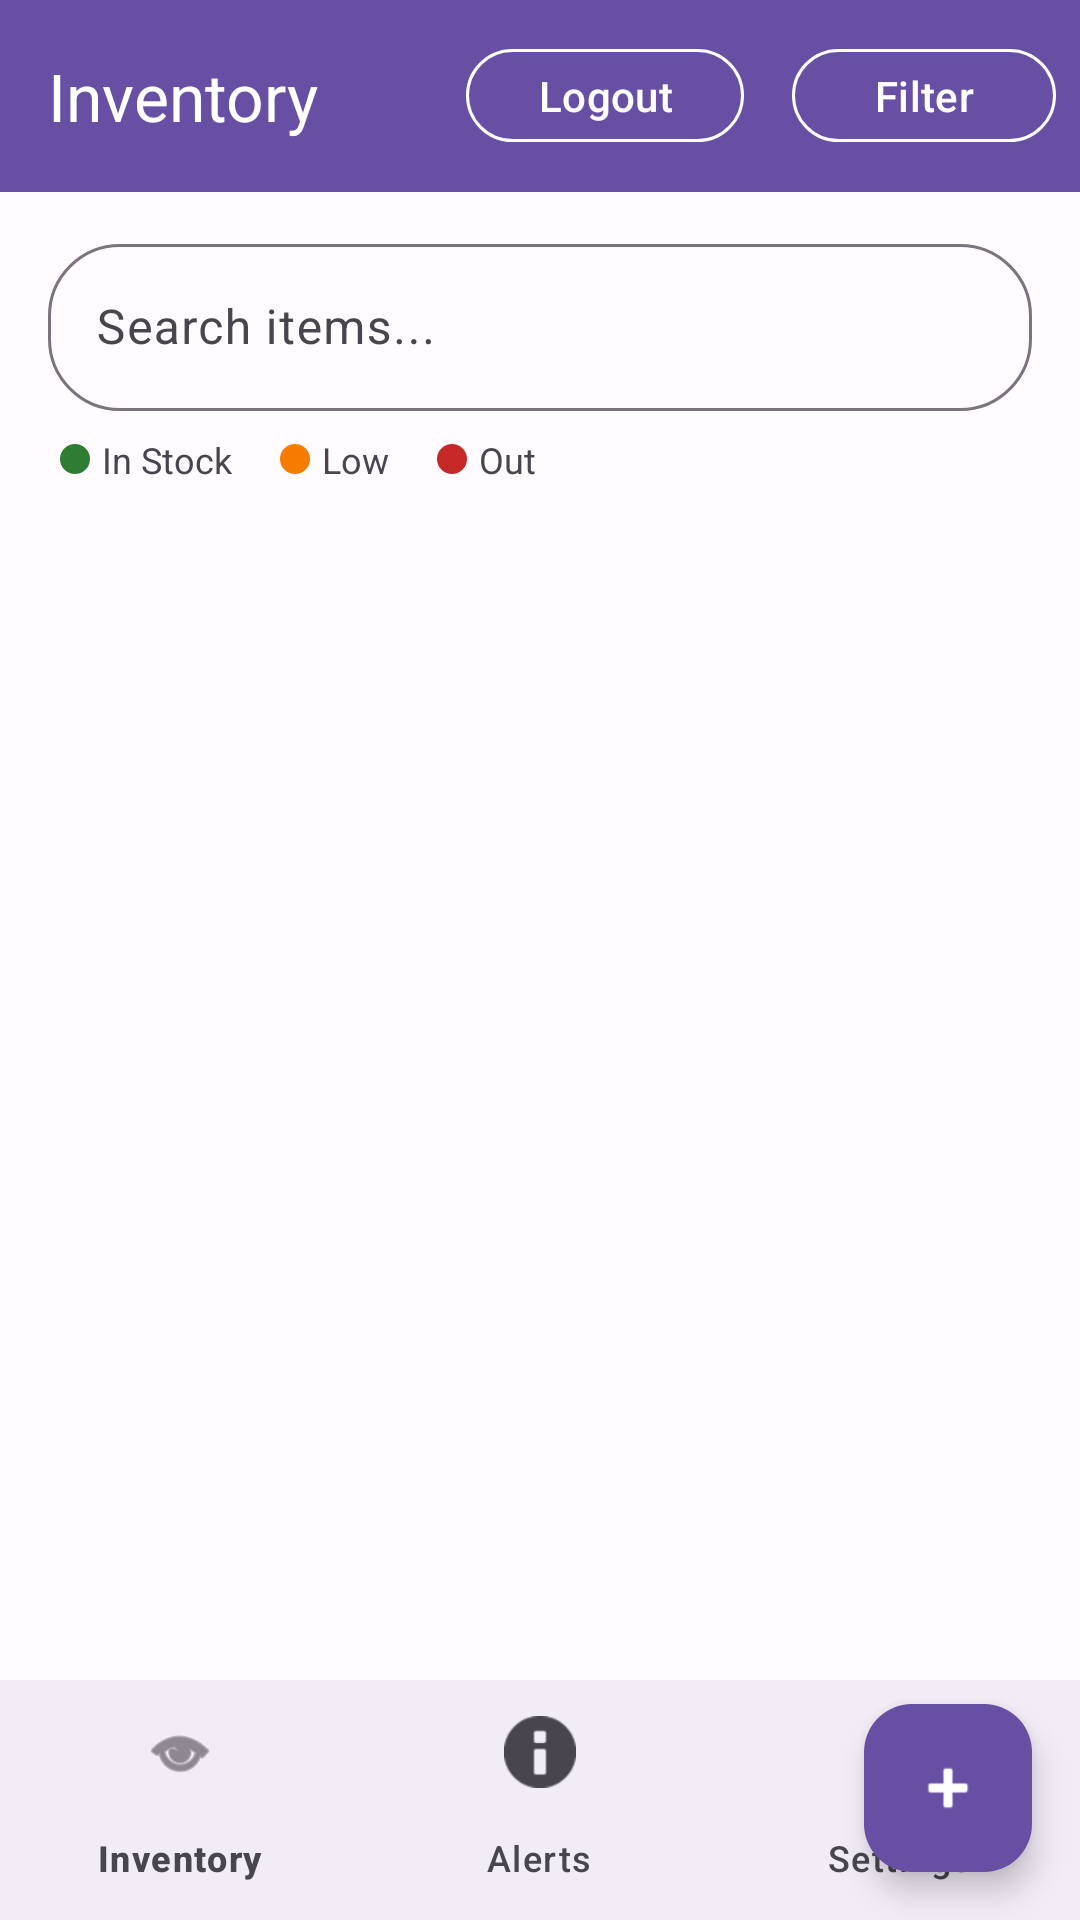

Icons on this 1080x1920 Android screen, each with the point to tap as (x,y):
Add Item: (948,1788)
